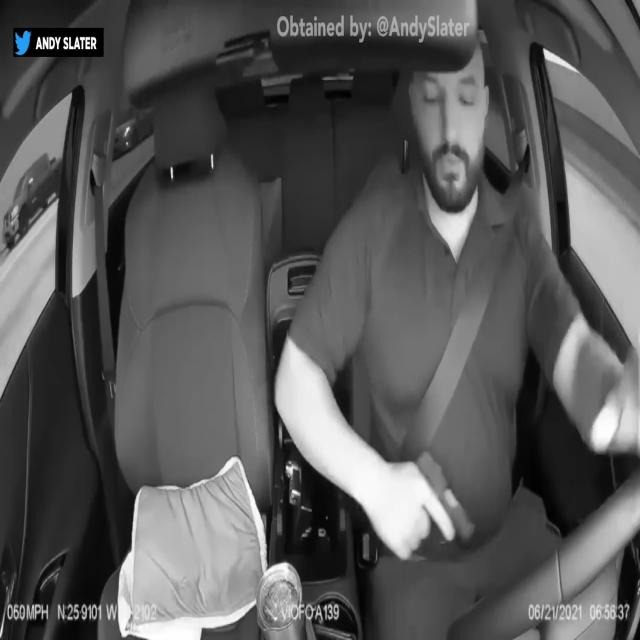senjata_api: (416, 448, 474, 546)
